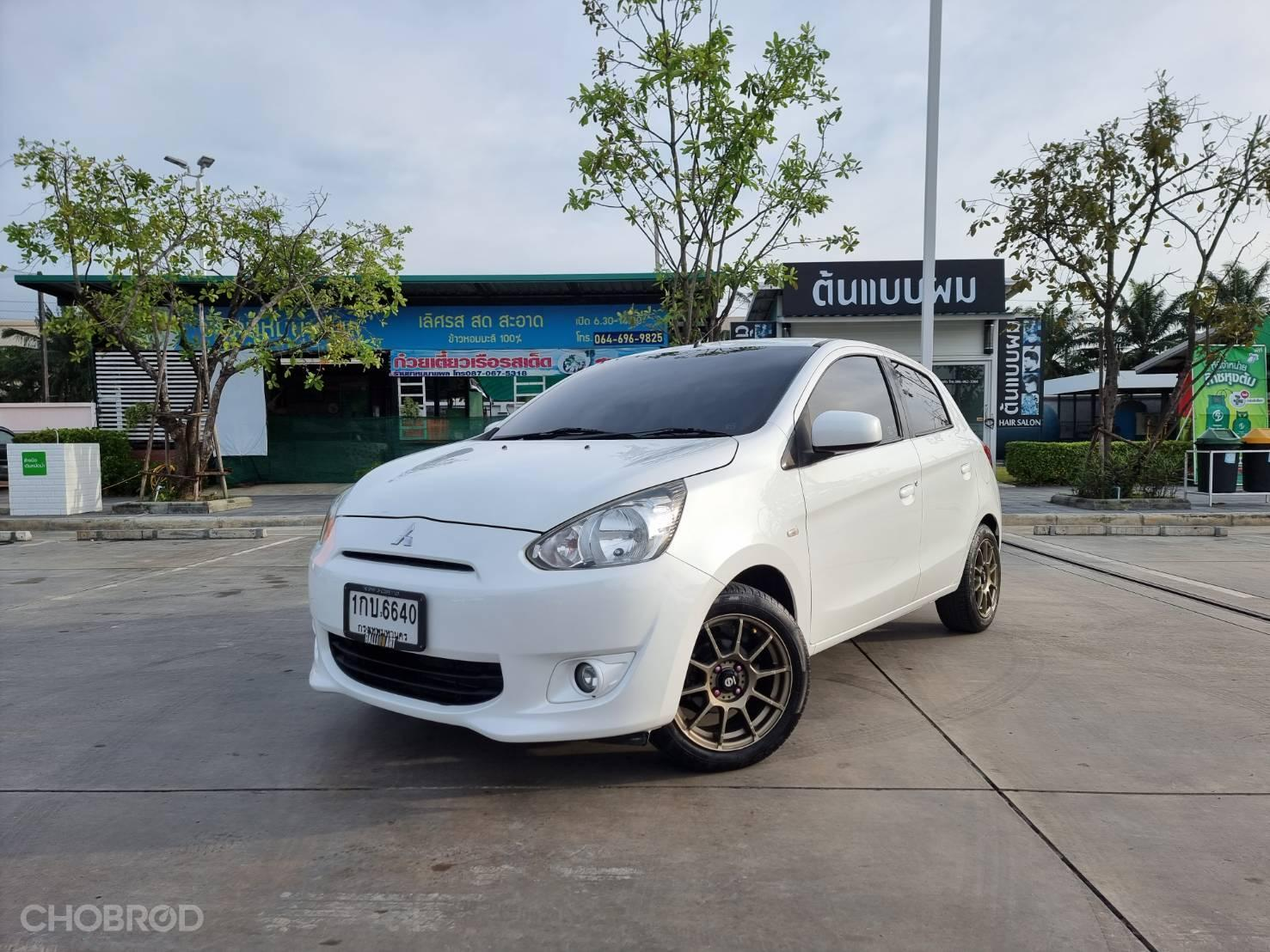license-plate: (342, 579, 430, 651)
